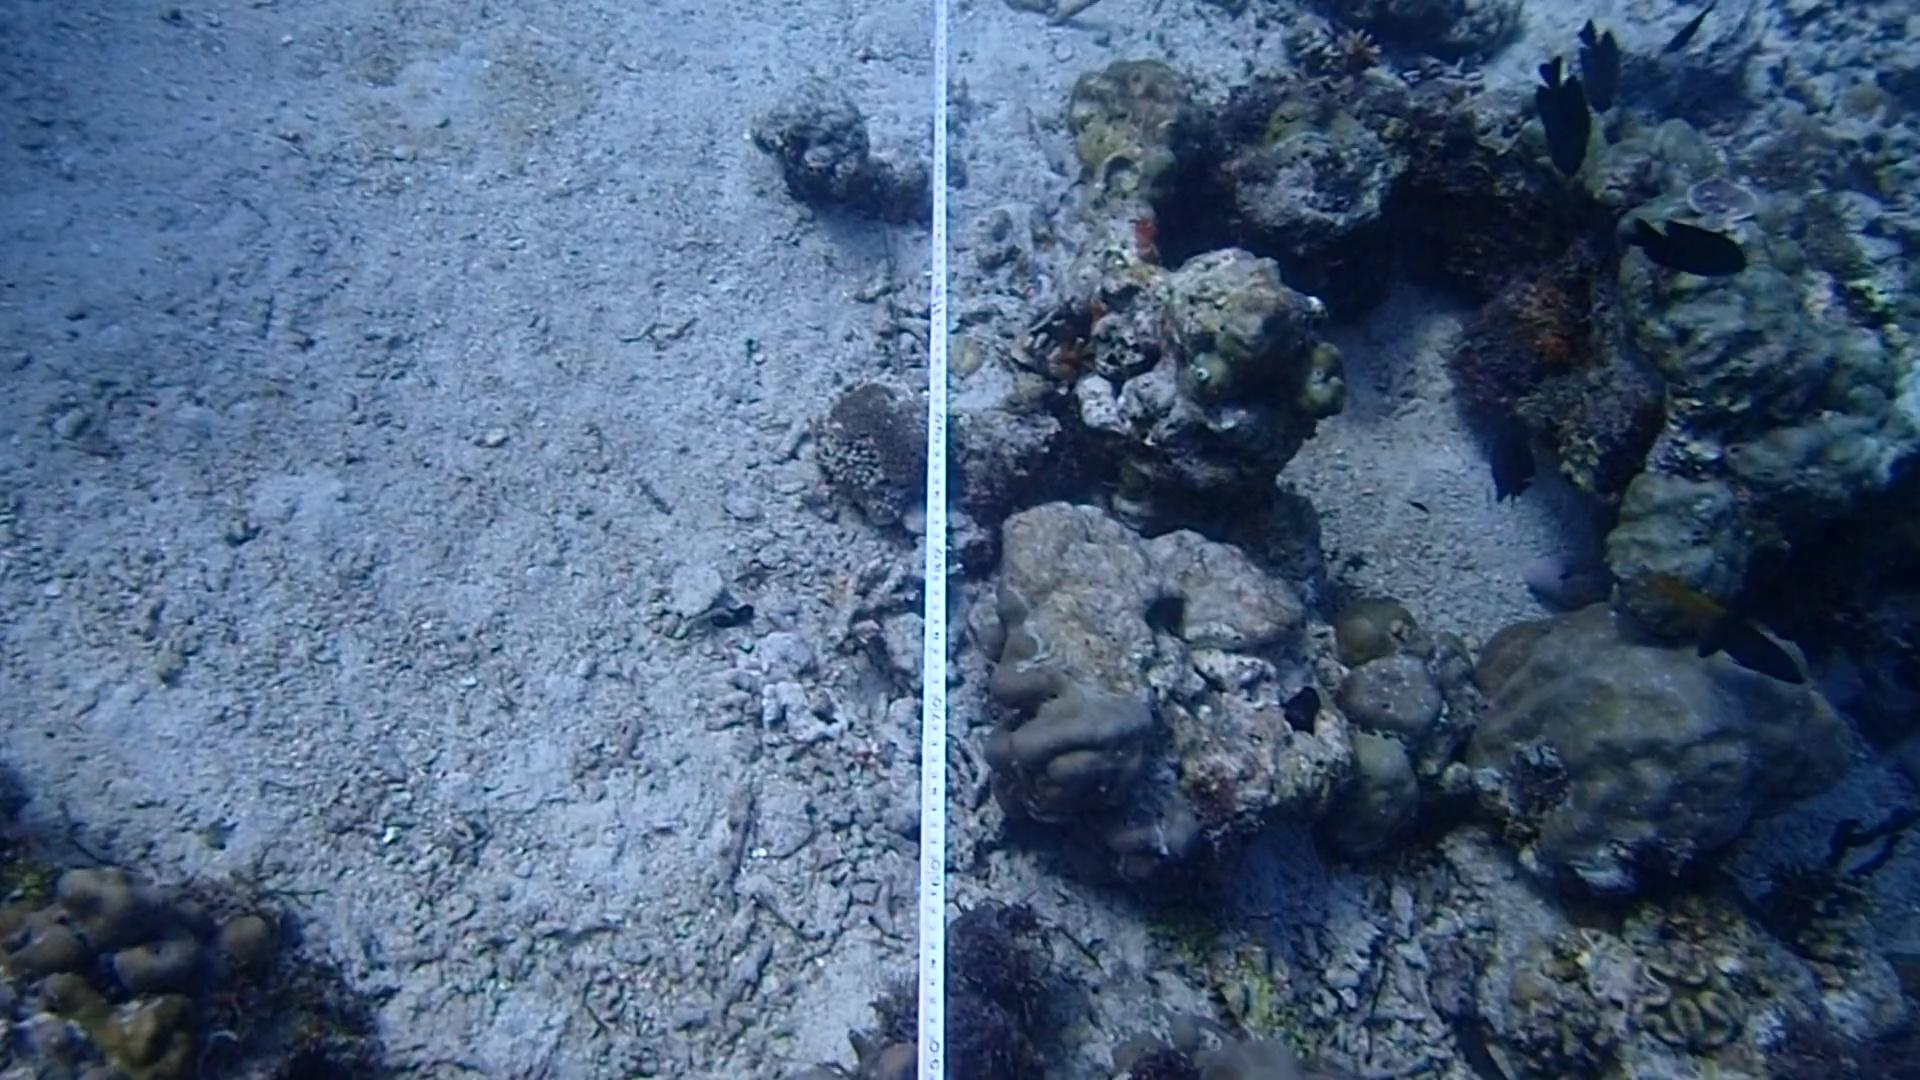Dark Fish: (1515, 37, 1610, 181), (1617, 198, 1759, 289), (1478, 402, 1553, 501), (1563, 9, 1627, 112), (1642, 0, 1717, 62)
Half Blue - Half Yellow: (1627, 546, 1813, 699)
